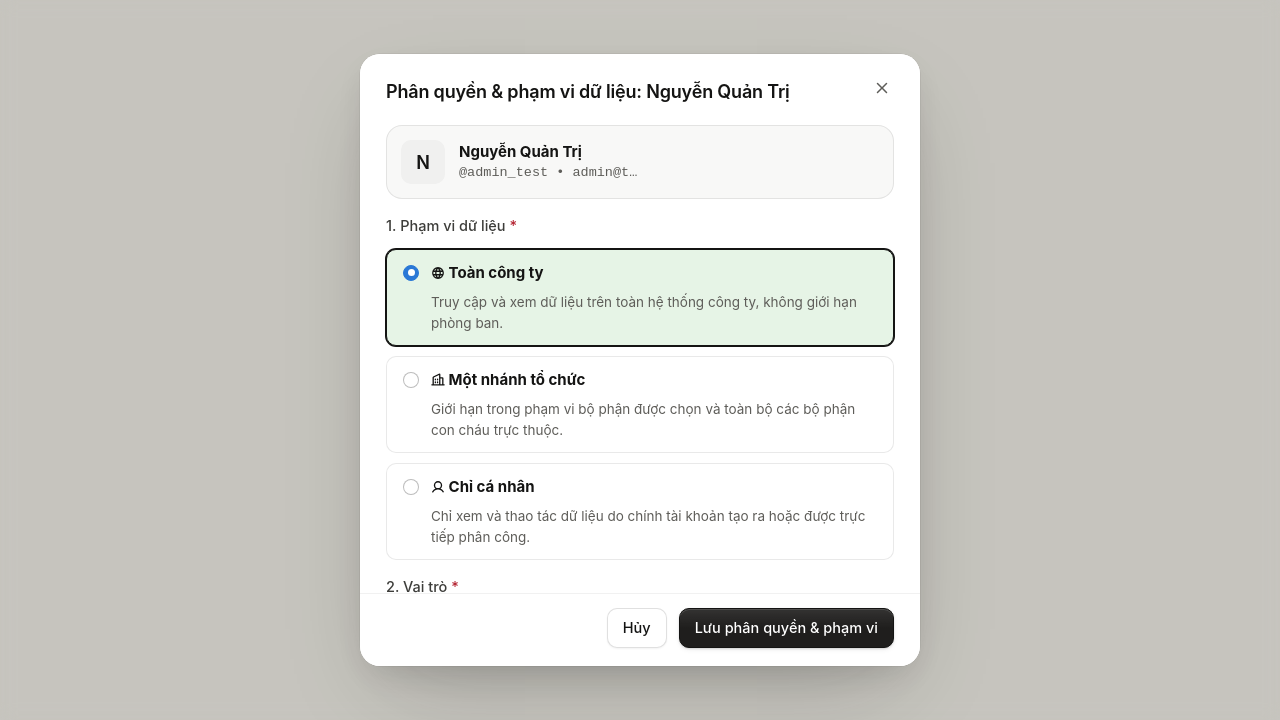
Test case: Role & Data Scope Module — Acceptance Criteria Tests (NCL-01-CN-004) › TC-02: RoleScopeModal validates department selection when scope is DEPARTMENT
// Switch scope to DEPARTMENT
Click the radio button labelled "Một nhánh tổ chức": (411, 380) [403,372,419,388]
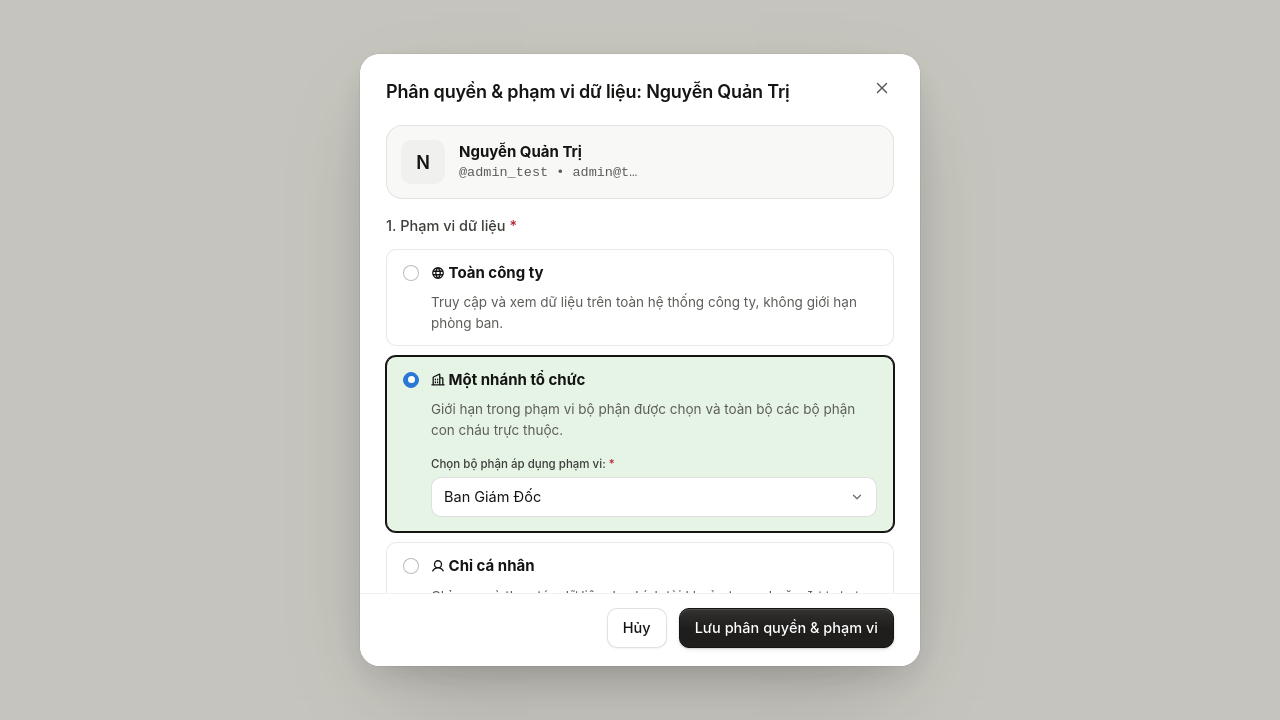
// Clear department select by choosing empty
Select "-- Chọn bộ phận trong cây tổ chức --" in the dropdown labelled "Chọn bộ phận áp dụng phạm vi: *": (654, 497) [431,477,877,517]
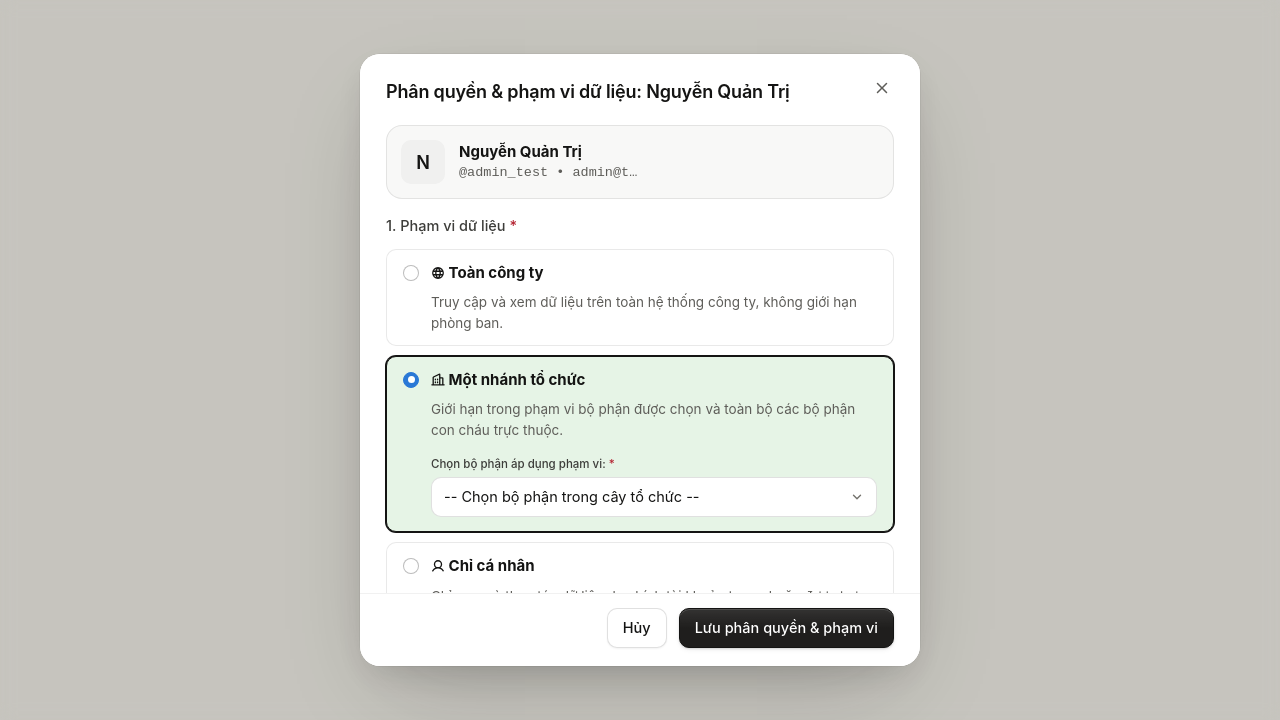
Click the button "Lưu phân quyền & phạm vi": (786, 628) [679,608,894,648]
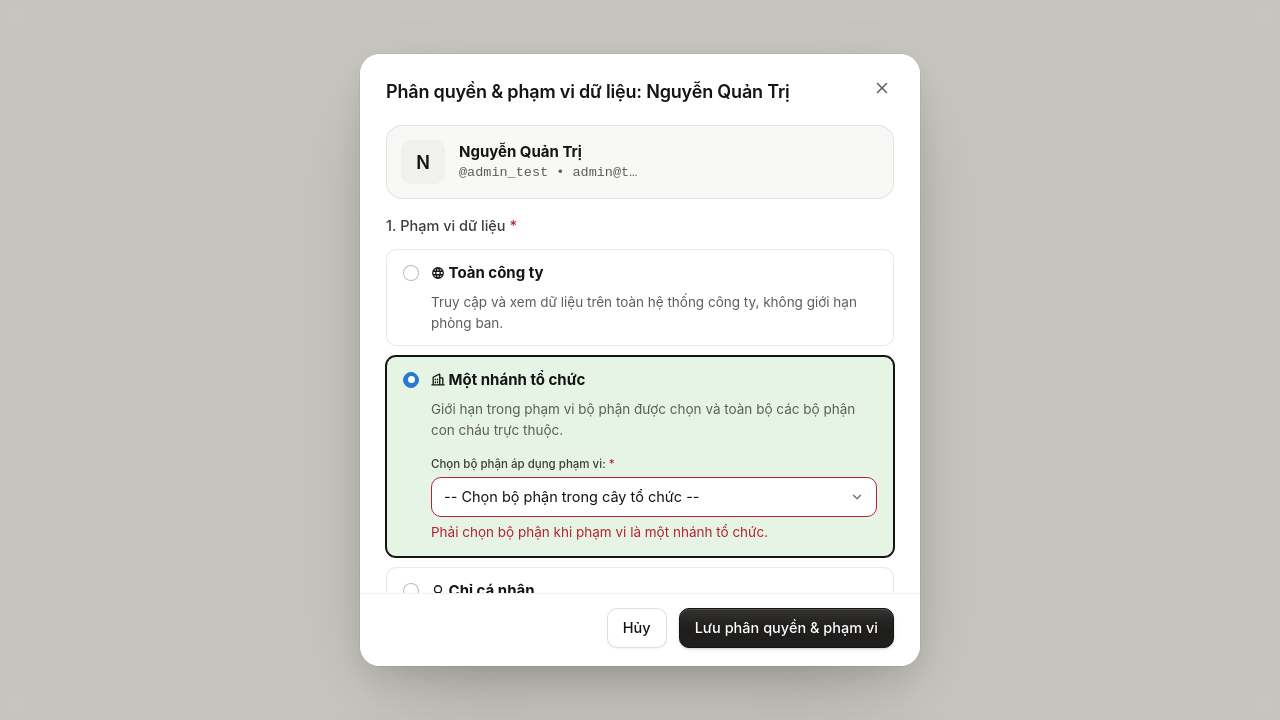
Now the text "Phải chọn bộ phận khi phạm vi là một nhánh tổ chức." is shown, box [431,524,768,540]
